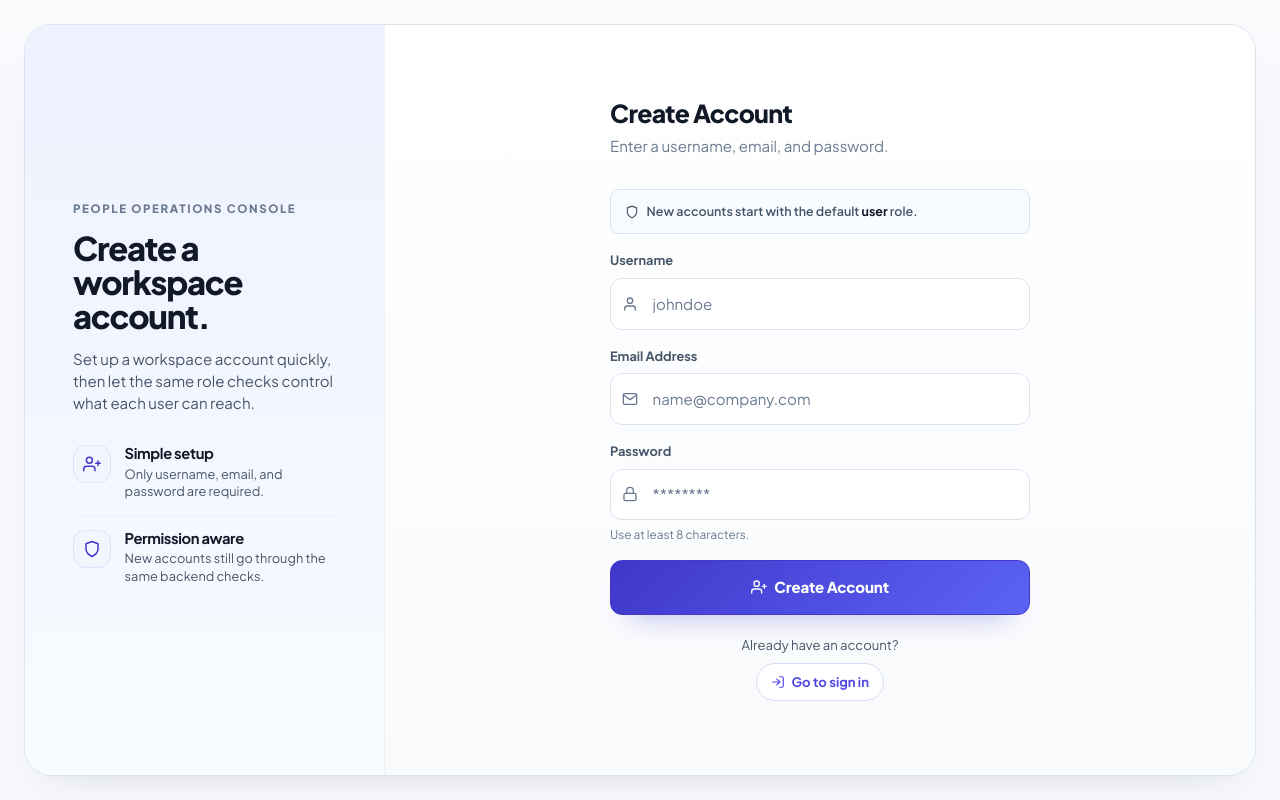
Test: Register page › shows inline error when registration fails
Type "newuser" into the field labelled "Username" at (820, 304), box [610,278,1030,330]
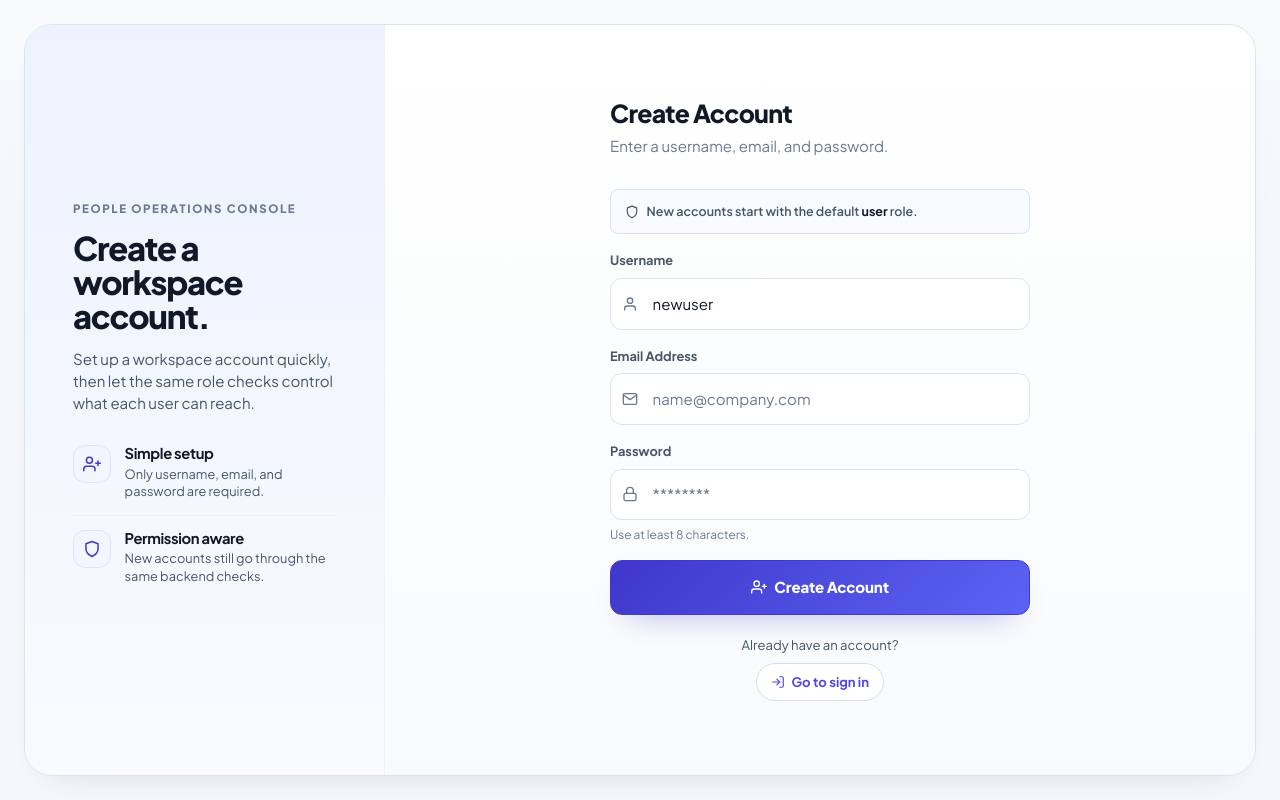
Type "newuser@example.com" into the field labelled "Email Address" at (820, 399), box [610,373,1030,425]
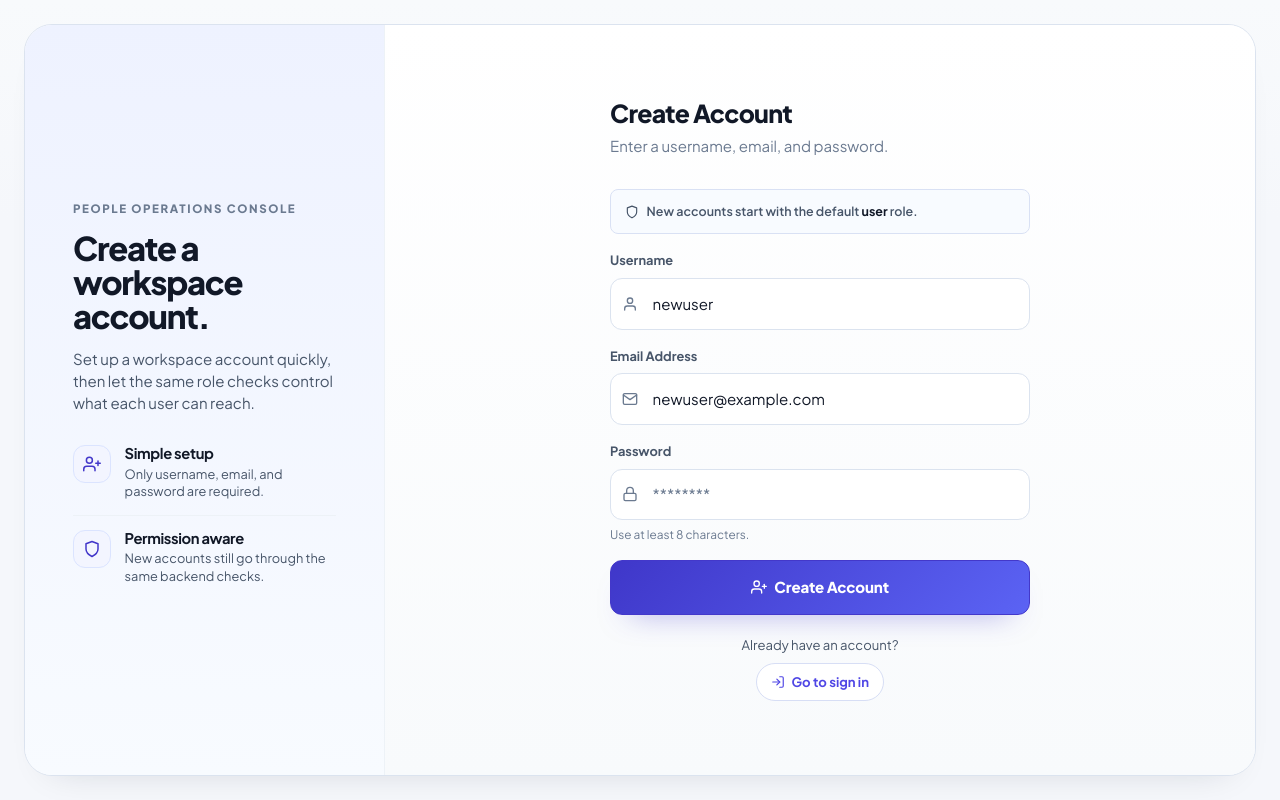
Type "secret123" into the password field labelled "Password" at (820, 494), box [610,468,1030,520]
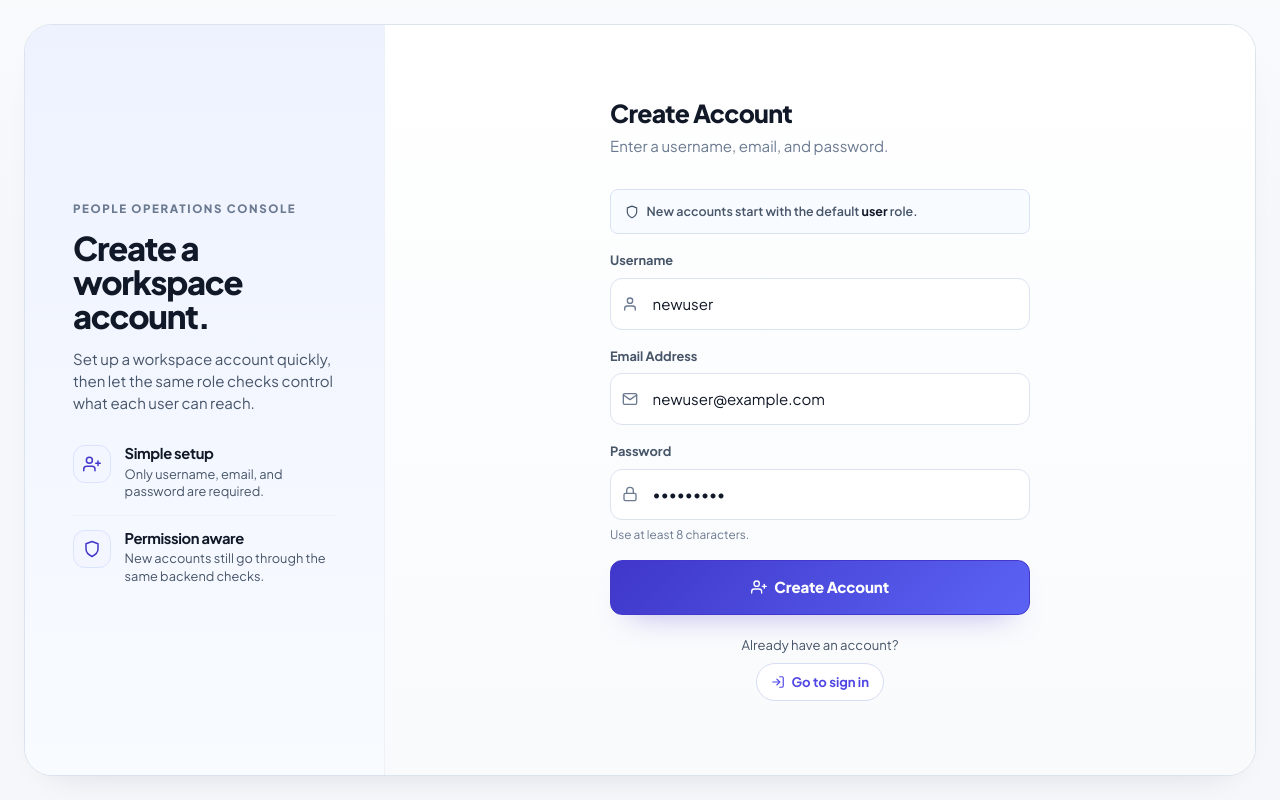
Click the button "Create Account" at (820, 587), box [610,560,1030,615]
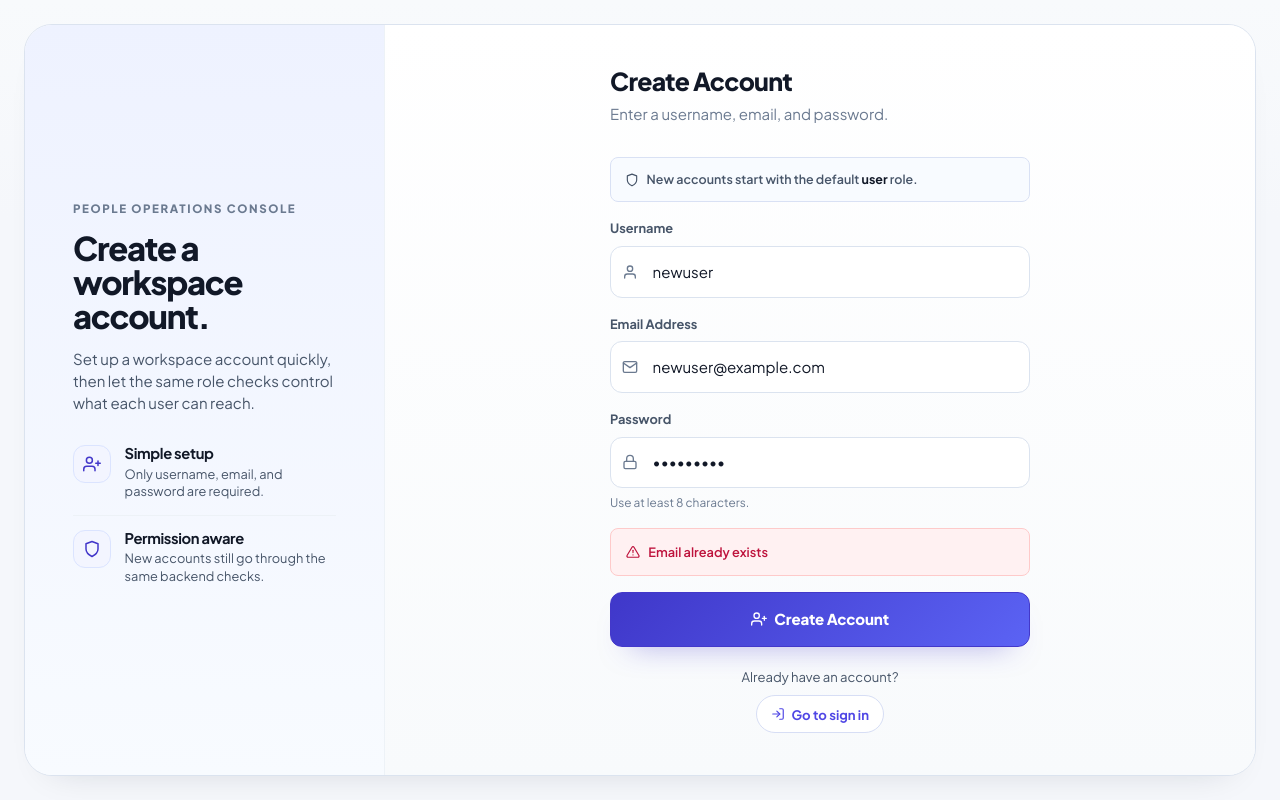
Expected: the message reads "Email already exists", [648,544,768,560]
